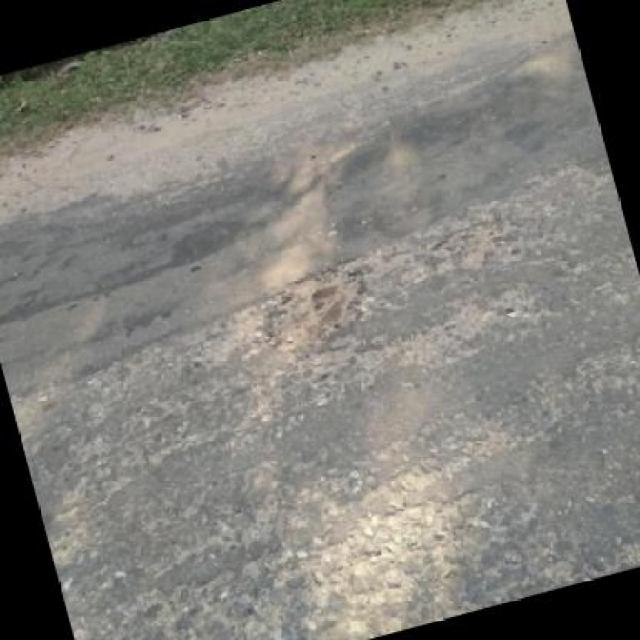pothole1: (249, 249, 382, 357)
